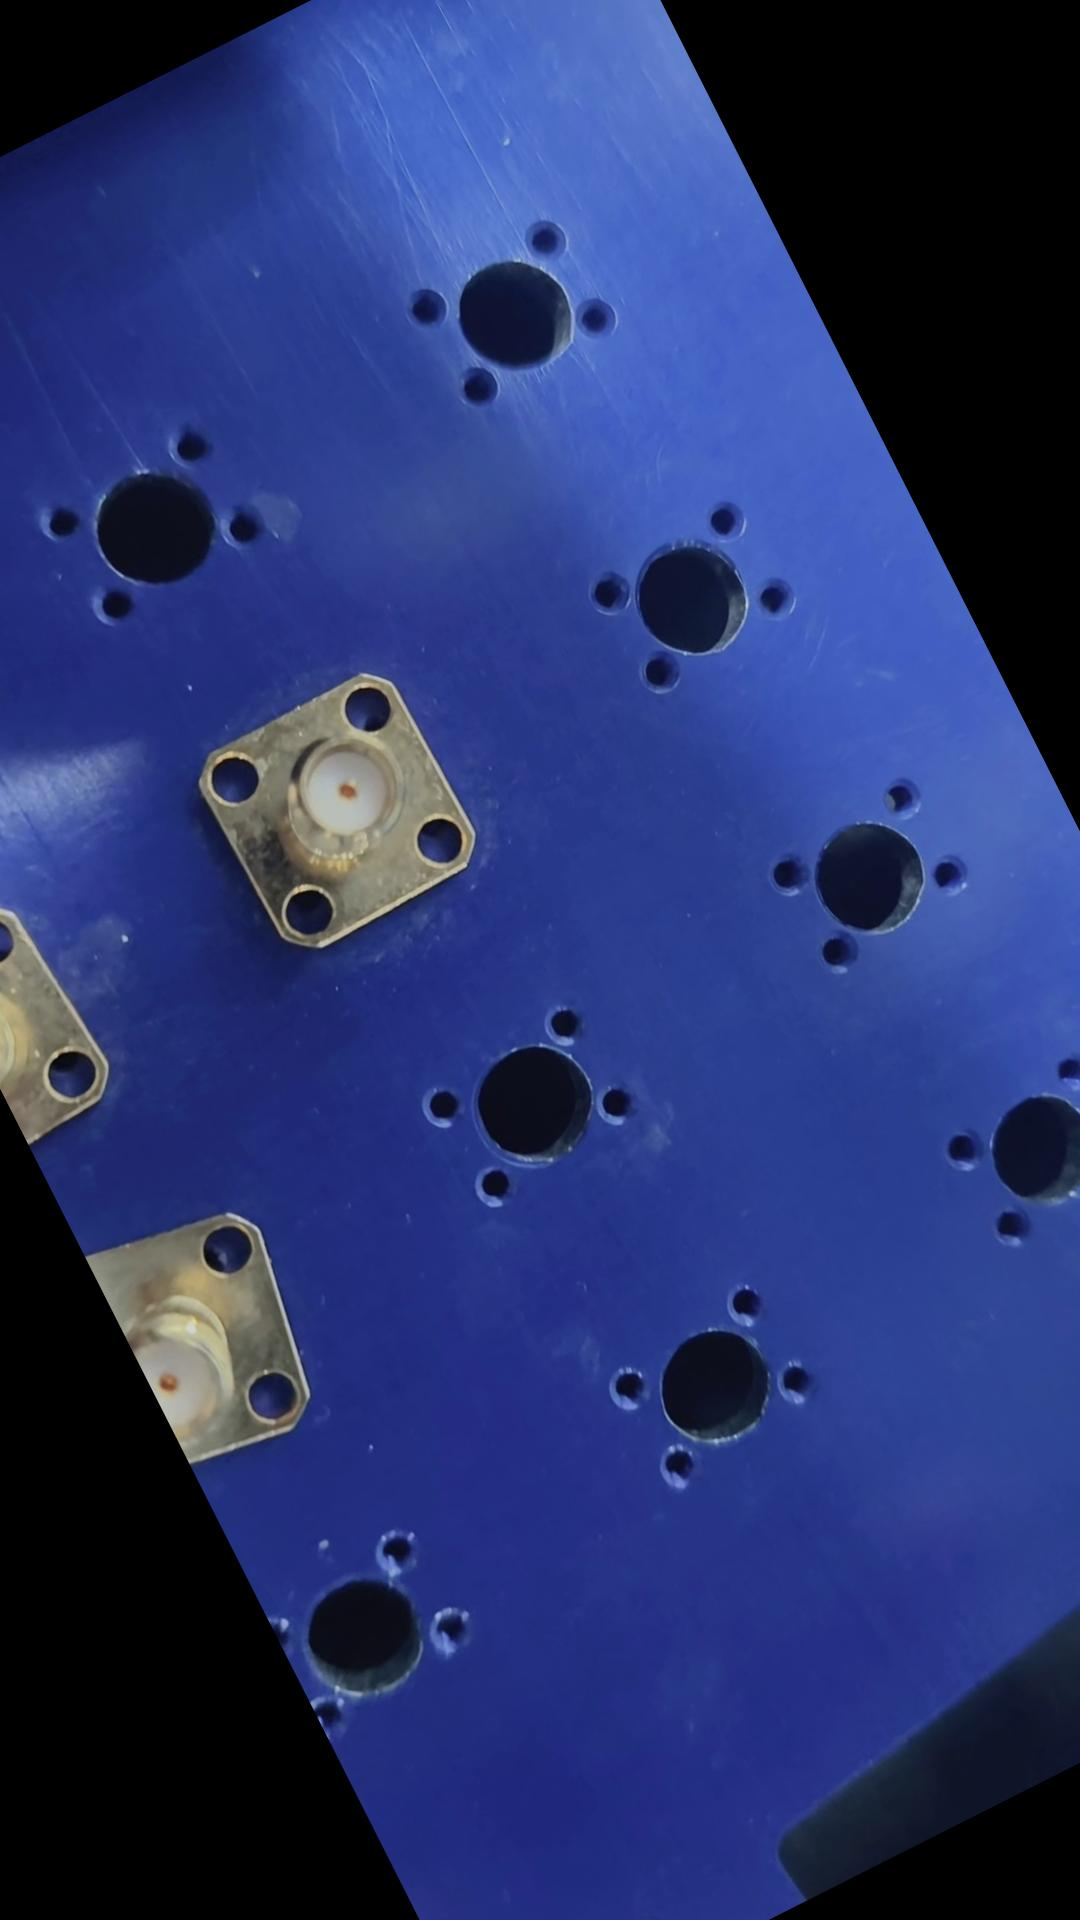SMA: (545, 626, 811, 882)
